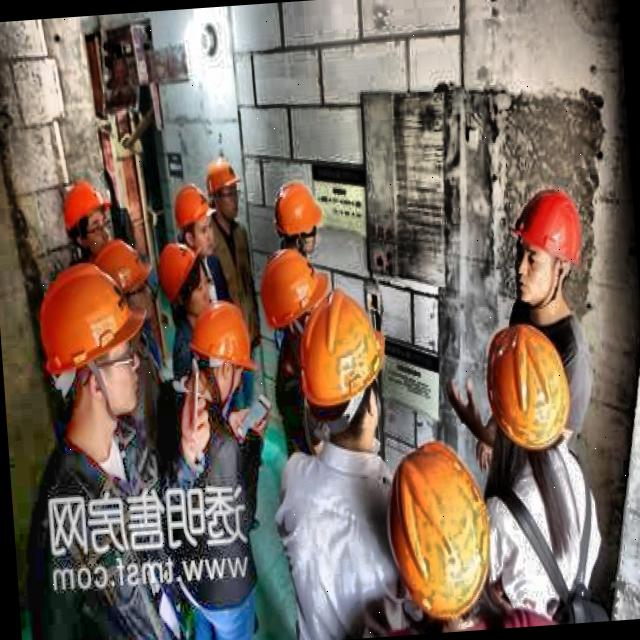helmet: (378, 440, 502, 624), (34, 255, 145, 425), (298, 286, 393, 452), (476, 316, 577, 461), (499, 186, 588, 310), (250, 244, 336, 344), (189, 296, 254, 403), (92, 230, 154, 332), (152, 236, 212, 320), (266, 176, 324, 261), (57, 170, 113, 258), (174, 180, 218, 254), (202, 156, 245, 231)
